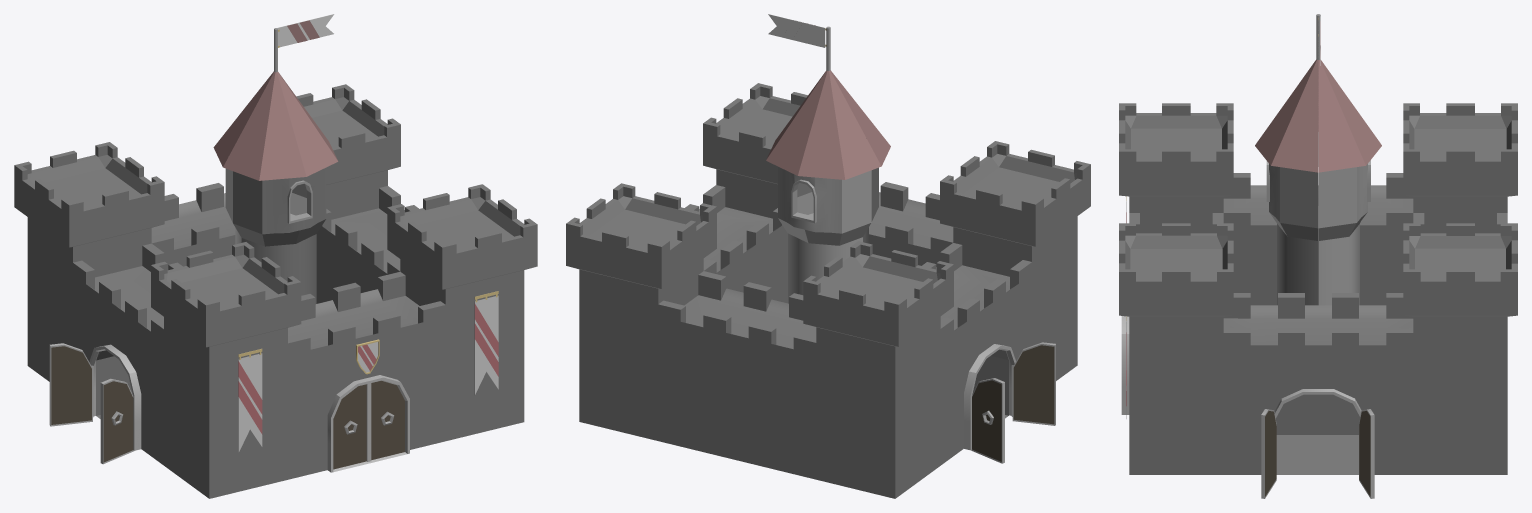
File: castle_red_03.fbx
3 views of the same model, side by side, from view 1: azimuth 30°, elevation 25°; view 2: azimuth 150°, elevation 25°; view 3: azimuth 270°, elevation 25° (orthographic). The views are drawn at different scales.
Visible parts, largest first — view 1: pasted__pCube10, pCube63, pCube59, pCube97, pCube98, pCube93, pCube99, pTorus9, pCube92, pCube79; view 2: pasted__pCube10, pCube63, pCube98, pCube97, pTorus9, pCube92; view 3: pasted__pCube10, pCube63, pCube95, pCube96, pCube59, polySurface18.
Boxes of the visible parts, <box> form: pasted__pCube10: <box>14,84,537,498</box>; pCube63: <box>213,28,338,303</box>; pCube59: <box>327,375,409,472</box>; pCube97: <box>49,343,92,426</box>; pCube98: <box>100,378,133,464</box>; pCube93: <box>238,348,262,452</box>; pCube99: <box>474,291,498,394</box>; pTorus9: <box>89,344,141,450</box>; pCube92: <box>277,14,334,47</box>; pCube79: <box>356,339,379,374</box>; pasted__pCube10: <box>566,83,1090,498</box>; pCube63: <box>766,26,890,303</box>; pCube98: <box>1012,342,1055,425</box>; pCube97: <box>971,378,1004,463</box>; pTorus9: <box>964,344,1015,450</box>; pCube92: <box>768,14,825,47</box>; pasted__pCube10: <box>1119,103,1517,474</box>; pCube63: <box>1255,14,1381,305</box>; pCube95: <box>1359,409,1374,498</box>; pCube96: <box>1261,409,1276,498</box>; pCube59: <box>1121,316,1129,414</box>; polySurface18: <box>1274,389,1361,418</box>.
Size of the model in its own units: 5.1 by 4.45 by 4.21.
